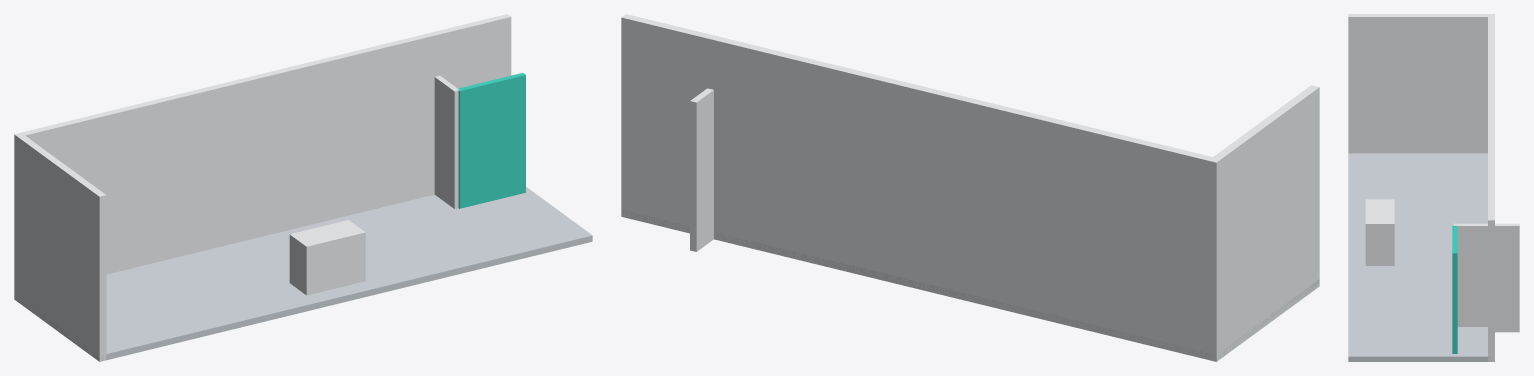
3 views of the same model, side by side, from view 1: azimuth 30°, elevation 25°; view 2: azimuth 150°, elevation 25°; view 3: azimuth 270°, elevation 25° (orthographic). The views are drawn at different scales.
Parts seen in each view (by area): view 1: Exhibition Booth Concept; view 2: Exhibition Booth Concept; view 3: Exhibition Booth Concept.
Boxes of the visible parts, left/top/right/bottom form: Exhibition Booth Concept: left=14, top=14, right=592, bottom=361; Exhibition Booth Concept: left=621, top=14, right=1319, bottom=361; Exhibition Booth Concept: left=1348, top=14, right=1519, bottom=361.
Bounding box in the file's own units: 10 × 3.2 × 3.51.
